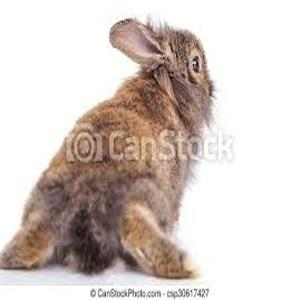rabbit: (0, 18, 213, 277)
